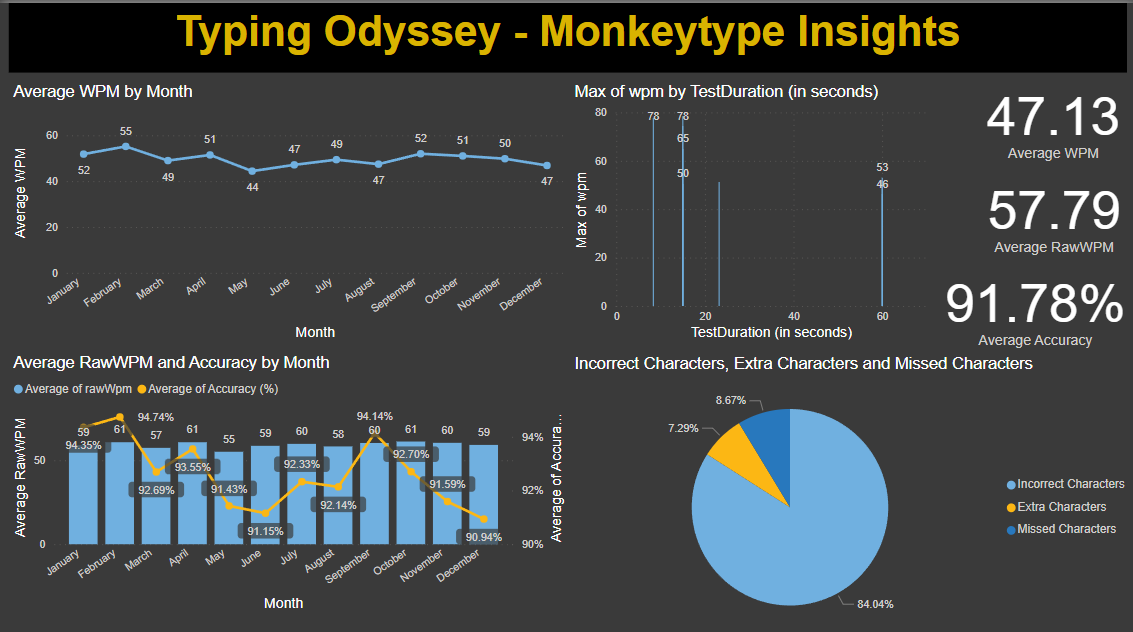

What the dashboard file says about the page in this screenshot:
{"tool":"powerbi","page":{"name":"Page 1","canvas":[1280,720],"ordinal":0},"visuals":[{"type":"textbox","box":[9.6,0,1260,78.1],"z":0},{"type":"lineChart","title":"Average WPM by Month","fields":{"Category":["typing_dataCleaned.ReadableDate.Variation.Date Hierarchy.Month","typing_dataCleaned.ReadableDate.Variation.Date Hierarchy.Day"],"Y":["Avg(typing_dataCleaned.WPM_Exact)"]},"box":[9.6,89.1,630.7,296.1],"z":1000},{"type":"lineStackedColumnComboChart","title":"Average RawWPM and Accuracy by Month","fields":{"Category":["typing_dataCleaned.ReadableDate.Variation.Date Hierarchy.Month","typing_dataCleaned.ReadableDate.Variation.Date Hierarchy.Day"],"Y":["Avg(typing_dataCleaned.rawWpm)"],"Y2":["Avg(typing_dataCleaned.Accuracy (%))"]},"box":[10,395,631,296],"z":2000},{"type":"columnChart","fields":{"Category":["typing_dataCleaned.testDuration"],"Y":["Max(typing_dataCleaned.wpm)"]},"box":[641.6,89.2,413.7,295.5],"z":3000},{"type":"pieChart","fields":{"Y":["Sum(typing_dataCleaned.incorrectChars)","Sum(typing_dataCleaned.extraChars)","Sum(typing_dataCleaned.missedChars)"]},"box":[641.6,395.6,639.2,324.4],"z":4000},{"type":"card","fields":{"Values":["Avg(typing_dataCleaned.wpm)"]},"box":[1096.3,78.4,183.3,106.1],"z":5000},{"type":"card","fields":{"Values":["Avg(typing_dataCleaned.rawWpm)"]},"box":[1097.5,184.5,182.1,106.1],"z":6000},{"type":"card","fields":{"Values":["Avg(typing_dataCleaned.Accuracy (%))"]},"box":[1055.3,290.7,224.3,104.9],"z":7000}]}

Visuals, with their boxes in screenshot pixels (x1, y1, x2, y2), scaled from the page's 1280x720 canvas onto the 1133x632 screenshot:
textbox: <region>8, 0, 1124, 69</region>
"Average WPM by Month" lineChart: <region>8, 78, 567, 338</region>
"Average RawWPM and Accuracy by Month" lineStackedColumnComboChart: <region>9, 347, 567, 607</region>
columnChart - typing_dataCleaned.testDuration x Max(typing_dataCleaned.wpm): <region>568, 78, 934, 338</region>
pieChart - Sum(typing_dataCleaned.incorrectChars) x Sum(typing_dataCleaned.extraChars): <region>568, 347, 1132, 631</region>
card - Avg(typing_dataCleaned.wpm): <region>970, 69, 1132, 162</region>
card - Avg(typing_dataCleaned.rawWpm): <region>971, 162, 1132, 255</region>
card - Avg(typing_dataCleaned.Accuracy (%)): <region>934, 255, 1132, 347</region>
